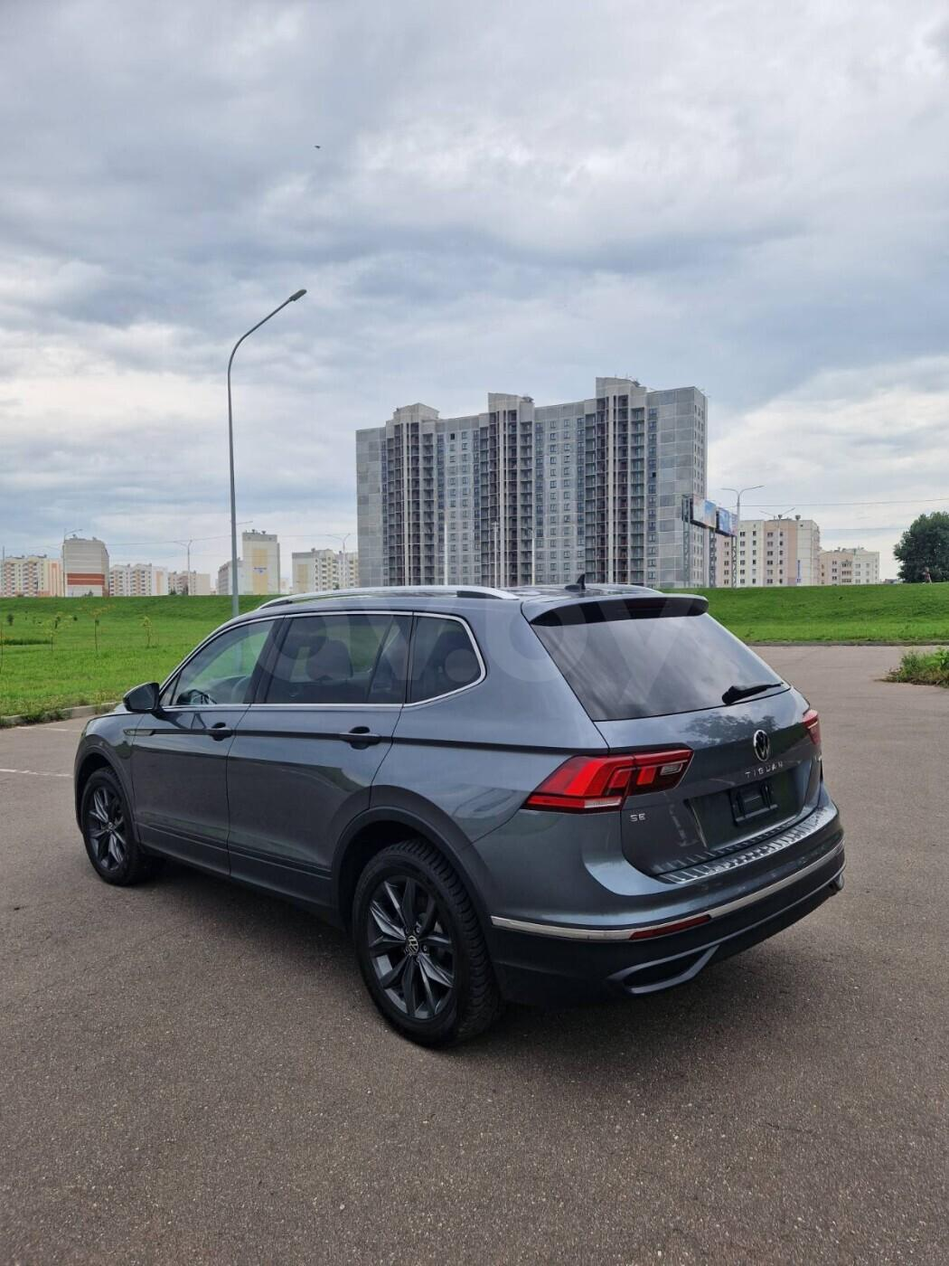Tiguan_2020-2024: (70, 575, 850, 1044)
